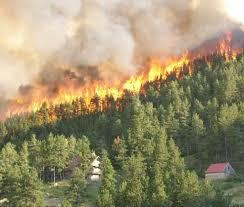fire: (216, 32, 243, 61)
